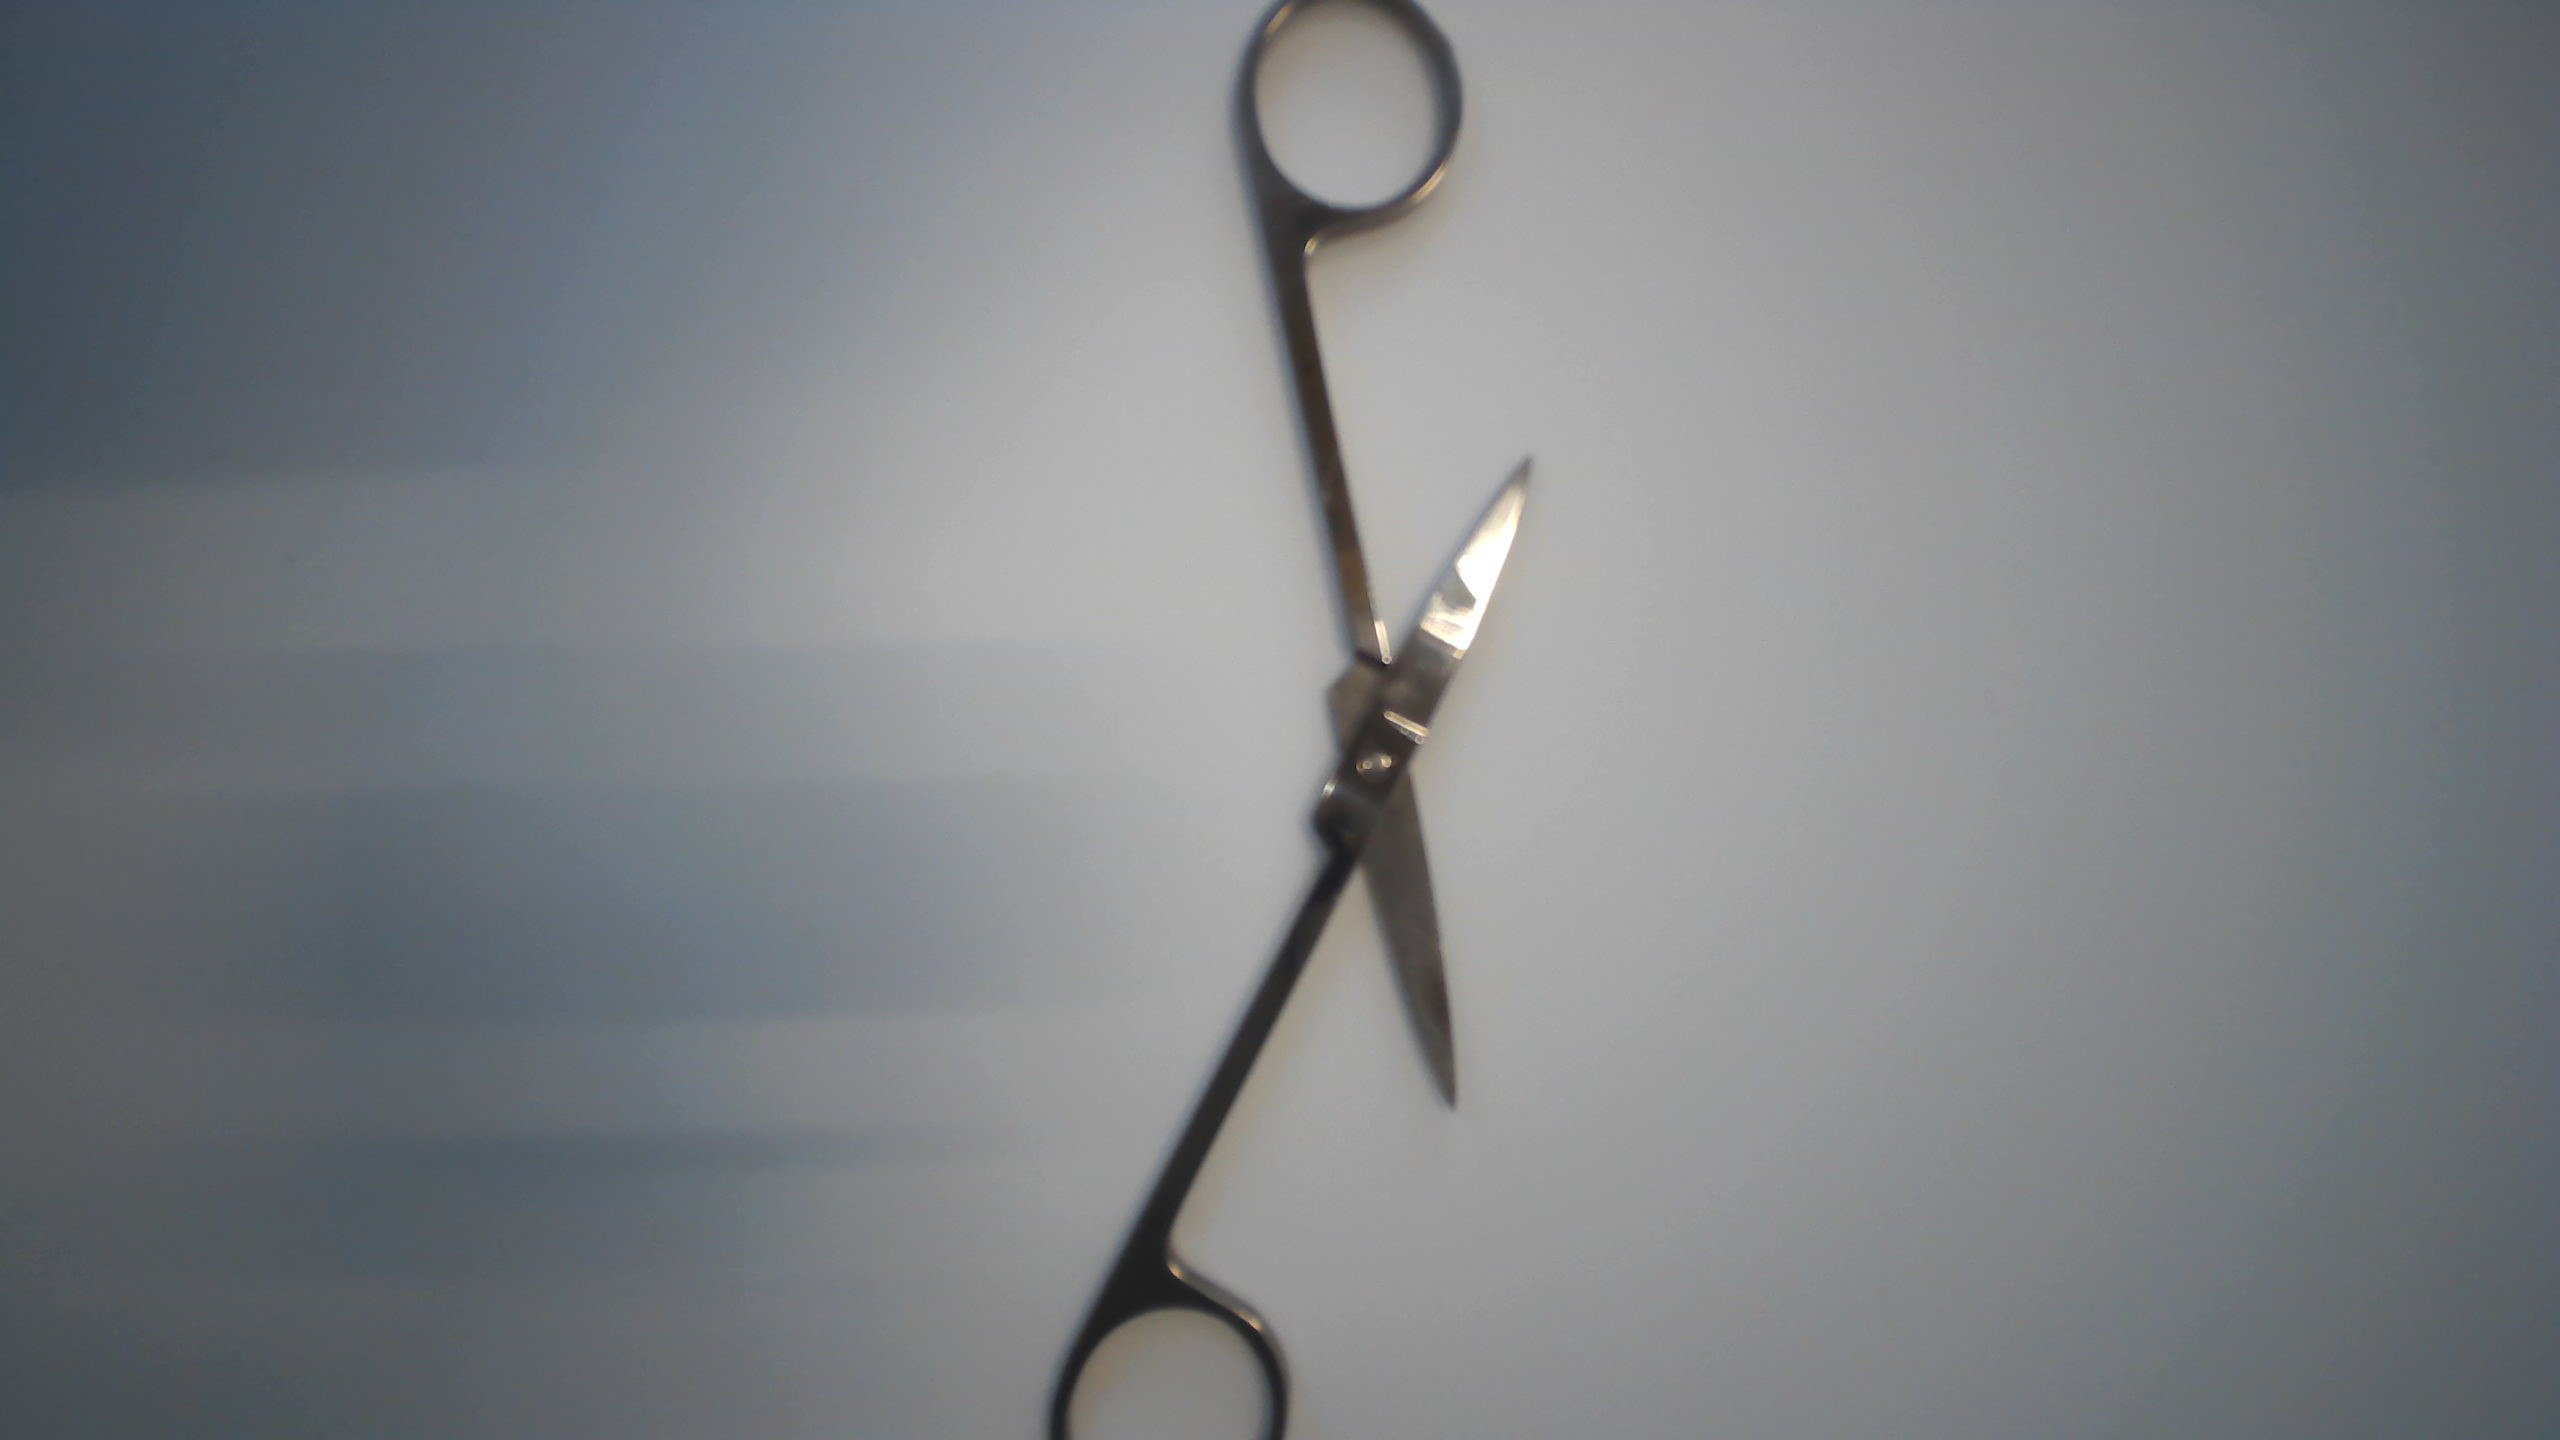Tissues: (1422, 559, 1479, 621)
